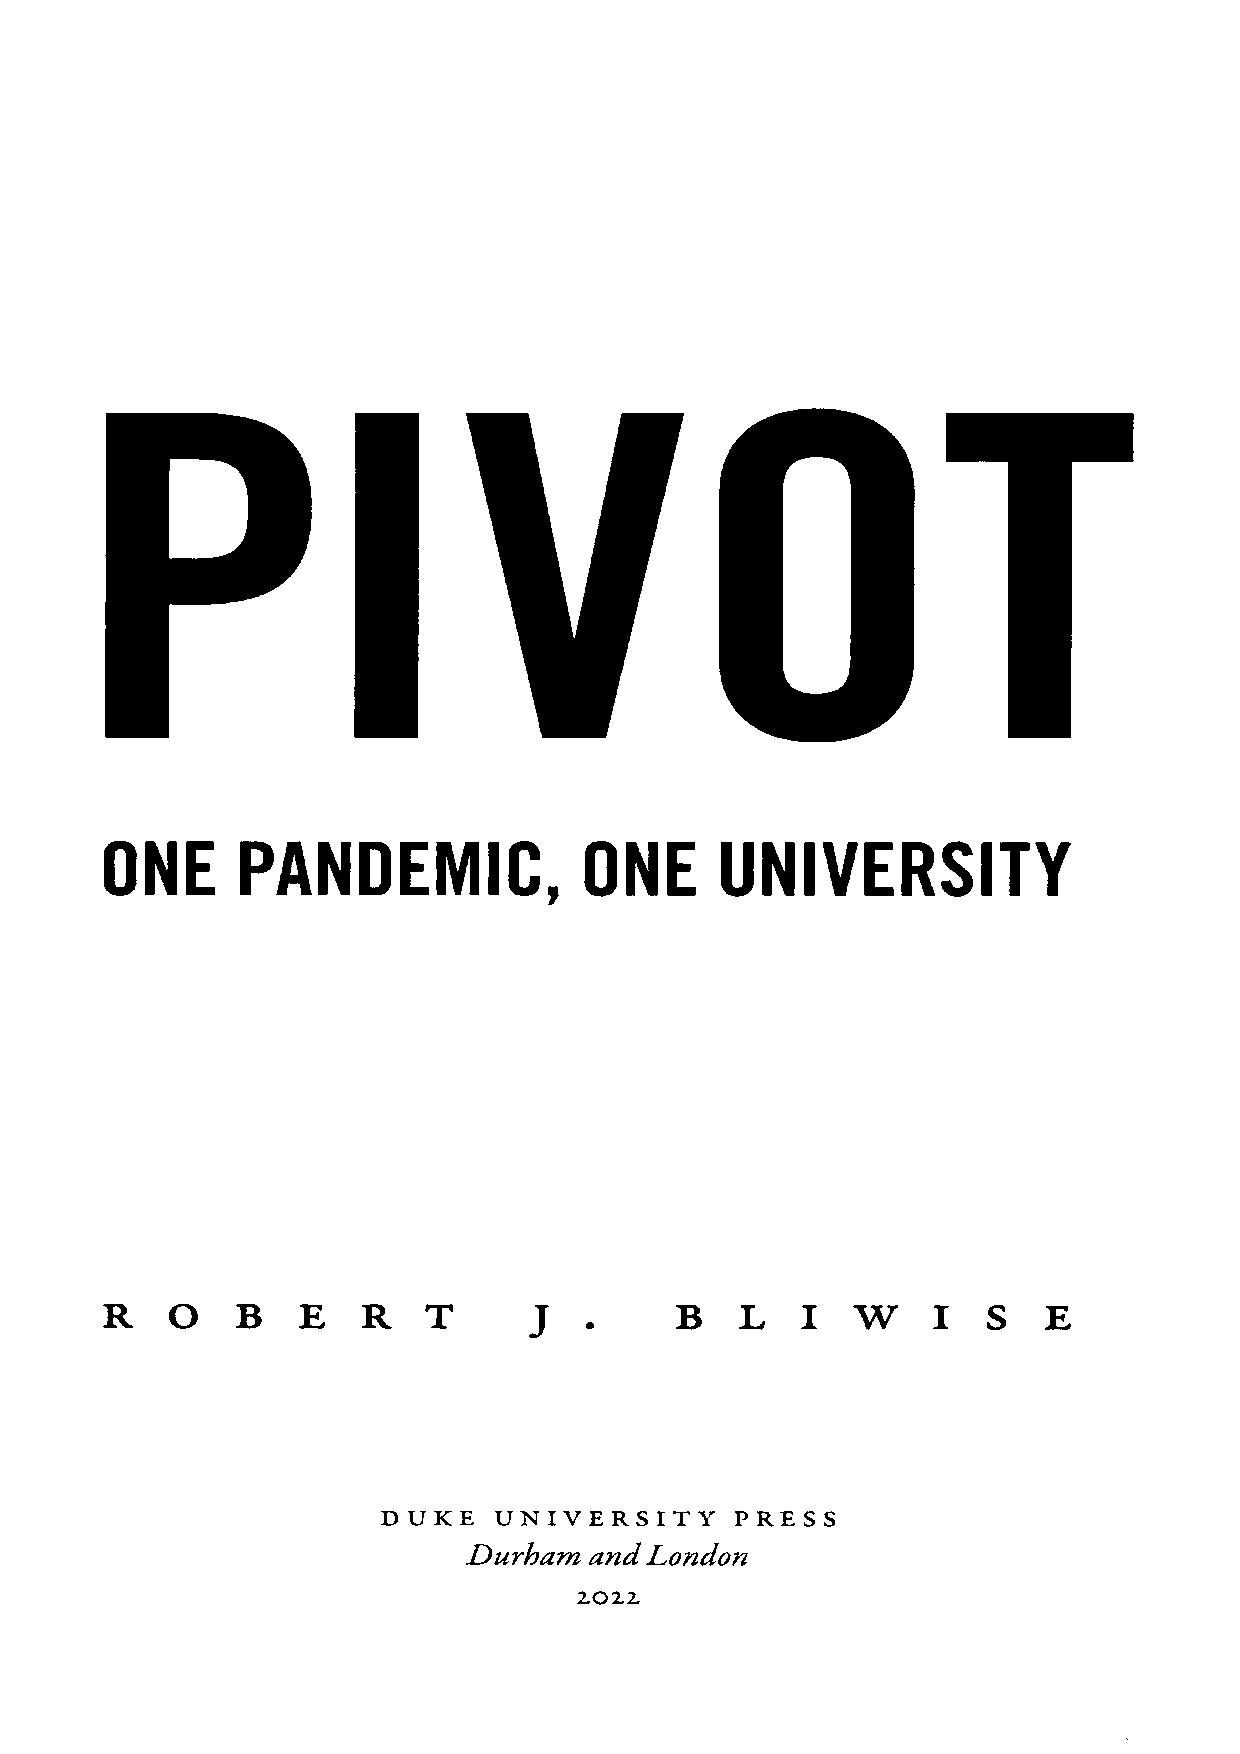author: (99, 1300, 1074, 1341)
title: (98, 405, 1137, 919)
